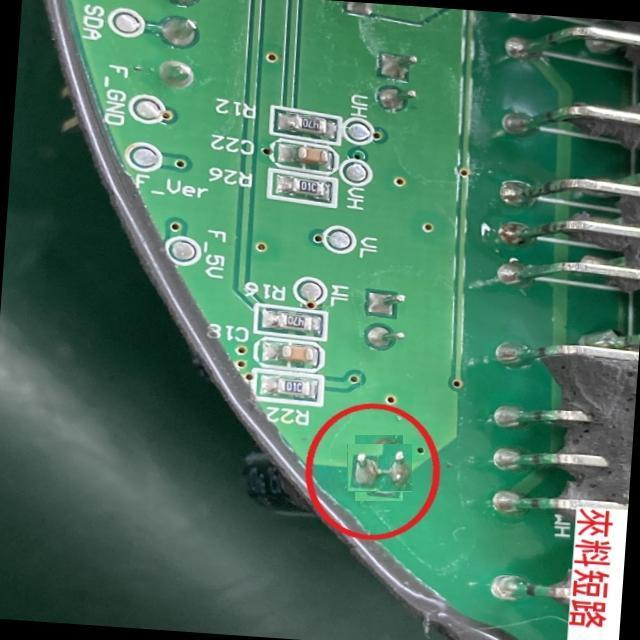damged: (351, 440, 408, 497)
